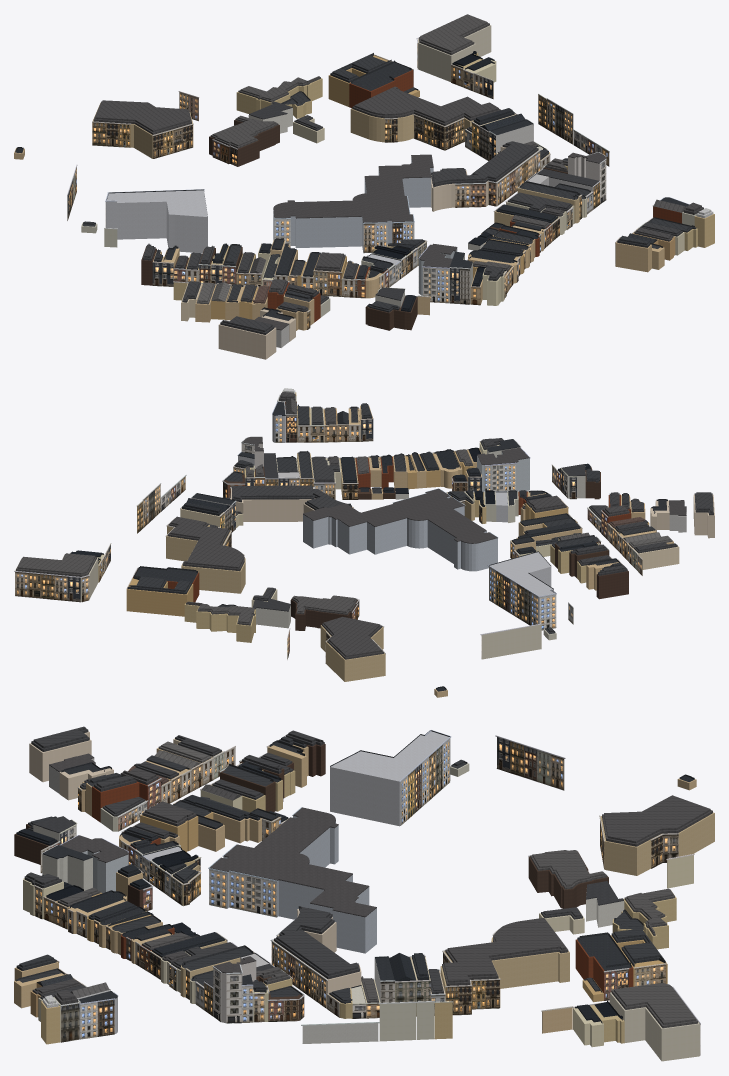
3 renders of one model, top to bottom at view 1: azimuth 30°, elevation 25°; view 2: azimuth 150°, elevation 25°; view 3: azimuth 270°, elevation 25°, orthographic. The views are drawn at different scales.
Visible parts, largest first — view 1: bldg_497244192, bldg_497244195_roof, bldg_497244195, bldg_497244193_roof_b, bldg_1317428422_roof_b, bldg_229444784, bldg_497359956_roof_b, bldg_503792477, bldg_497244193, bldg_229444784_roof_b, bldg_497359956_facade0, bldg_1317428422_facade0 (+26 smaller); view 2: bldg_497244195, bldg_497244195_roof, bldg_497244193_roof_b, bldg_497244193, bldg_497244192_facade0, bldg_229444784_facade1, bldg_1317428422, bldg_497244192, bldg_1317428422_roof_b, bldg_782023860_facade0, bldg_497359956, bldg_501562276 (+15 smaller); view 3: bldg_497244195_roof, bldg_497244192, bldg_497244195, bldg_497244193_roof_b, bldg_1317428422_roof_b, bldg_229444784, bldg_1317428422, bldg_497244193, bldg_497359956_roof_b, bldg_497244192_facade0, bldg_782023860_facade0, bldg_229444784_roof_b (+55 smaller).
Part boxes in pixels (x1,y1,x2,y2): bldg_497244192: (106, 190, 207, 253); bldg_497244195_roof: (273, 154, 433, 222); bldg_497244195: (273, 158, 433, 251); bldg_497244193_roof_b: (354, 86, 498, 123); bldg_1317428422_roof_b: (95, 100, 190, 132); bldg_229444784: (418, 25, 491, 81); bldg_497359956_roof_b: (432, 141, 536, 184); bldg_503792477: (218, 324, 276, 359); bldg_497244193: (350, 108, 473, 150); bldg_229444784_roof_b: (420, 14, 487, 52); bldg_497359956_facade0: (496, 149, 541, 206); bldg_1317428422_facade0: (152, 123, 193, 158); bldg_497244195: (303, 496, 497, 571); bldg_497244195_roof: (303, 488, 497, 543); bldg_497244193_roof_b: (169, 516, 243, 568); bldg_497244193: (166, 525, 245, 593); bldg_497244192_facade0: (487, 565, 539, 625); bldg_229444784_facade1: (14, 570, 81, 602); bldg_1317428422: (320, 625, 385, 681); bldg_497244192: (490, 552, 554, 623); bldg_1317428422_roof_b: (323, 616, 381, 657); bldg_782023860_facade0: (480, 623, 542, 659); bldg_497359956: (231, 488, 353, 521); bldg_501562276: (126, 578, 193, 616); bldg_497244195_roof: (210, 807, 376, 917); bldg_497244192: (330, 731, 448, 826); bldg_497244195: (223, 816, 376, 953); bldg_497244193_roof_b: (444, 918, 565, 982); bldg_1317428422_roof_b: (604, 795, 710, 843); bldg_229444784: (609, 992, 699, 1061); bldg_1317428422: (600, 812, 714, 875); bldg_497244193: (440, 937, 569, 1013); bldg_497359956_roof_b: (276, 906, 357, 975); bldg_497244192_facade0: (399, 736, 451, 825); bldg_782023860_facade0: (495, 735, 565, 790); bldg_229444784_roof_b: (614, 983, 695, 1024).
Bounding box in the file's own units: 281 × 21.93 × 275.
112 materials, 48 textured.
